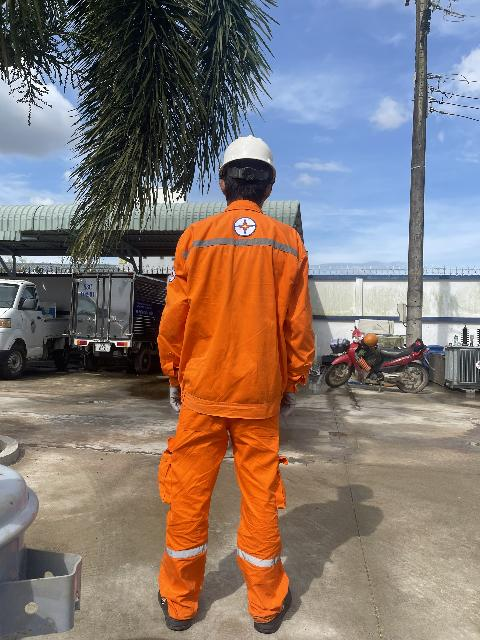gloves: (158, 372, 190, 418), (270, 384, 303, 417)
helmet: (210, 118, 290, 187)
shoes: (232, 581, 306, 635), (145, 579, 194, 634)
